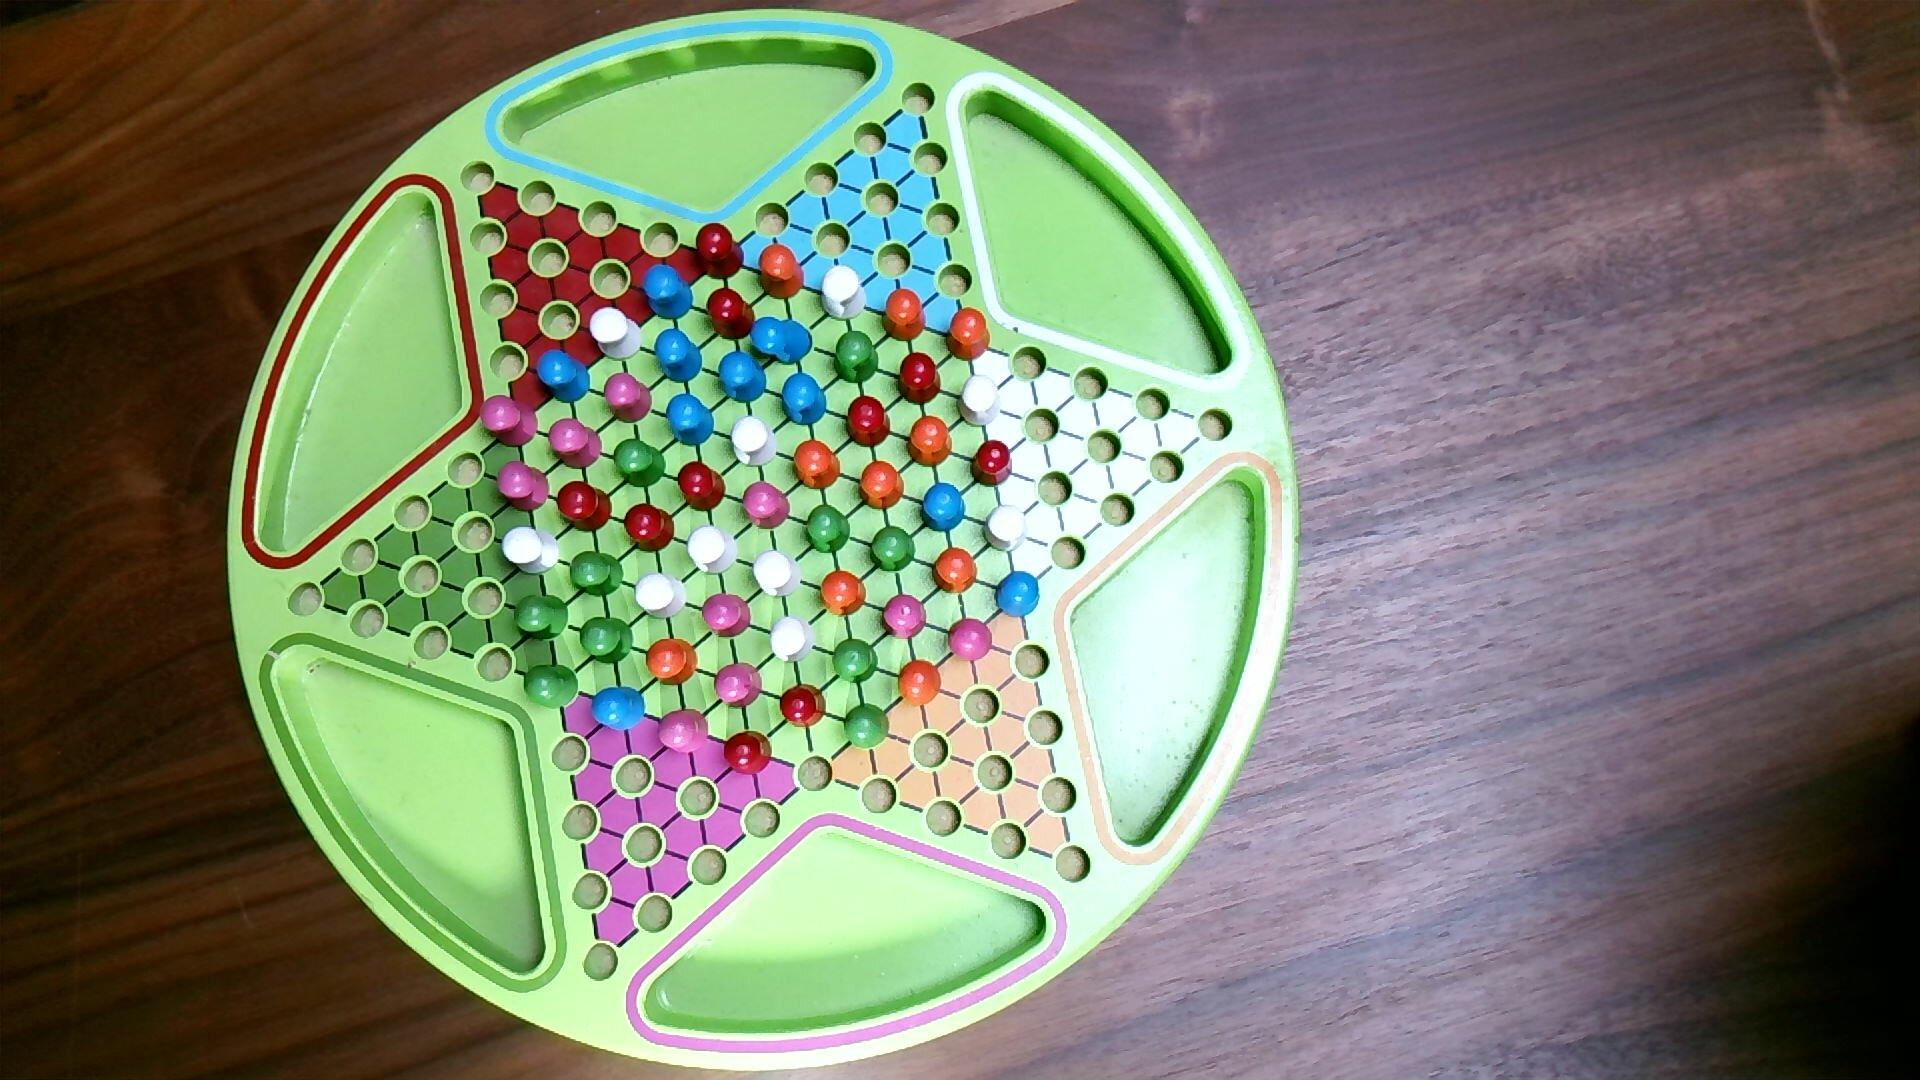B: (535, 348, 593, 407), (750, 315, 814, 368), (642, 262, 695, 322), (653, 327, 704, 385), (665, 393, 717, 448), (589, 684, 647, 735), (717, 349, 769, 405), (781, 373, 829, 429), (920, 480, 968, 535), (993, 568, 1042, 620)
G: (579, 615, 636, 667), (612, 438, 669, 491), (513, 593, 570, 644), (524, 662, 582, 711), (570, 550, 626, 599), (833, 328, 881, 385), (803, 502, 852, 556), (843, 702, 891, 752), (869, 524, 918, 574), (833, 640, 880, 686)
O: (757, 243, 807, 303), (645, 638, 700, 688), (881, 287, 928, 345), (857, 459, 907, 513), (793, 438, 843, 492), (945, 306, 992, 364), (906, 414, 953, 469), (931, 545, 978, 597), (820, 568, 868, 618), (897, 658, 943, 708)
R: (556, 479, 613, 534), (695, 222, 746, 282), (705, 287, 757, 343), (622, 502, 676, 554), (676, 459, 727, 514), (895, 351, 943, 407), (845, 394, 891, 448), (723, 731, 774, 778), (779, 683, 828, 731), (971, 440, 1014, 489)
R2: (479, 396, 539, 450), (495, 459, 551, 516), (549, 417, 605, 472), (603, 372, 654, 426), (741, 480, 793, 533), (657, 708, 711, 756), (880, 593, 928, 644), (702, 592, 753, 640), (715, 662, 764, 709), (947, 617, 994, 665)
W: (588, 305, 645, 363), (501, 525, 560, 578), (820, 264, 869, 323), (687, 525, 738, 578), (633, 574, 688, 622), (731, 415, 779, 469), (957, 373, 1004, 429), (767, 615, 816, 666), (752, 550, 803, 599), (982, 502, 1029, 555)
